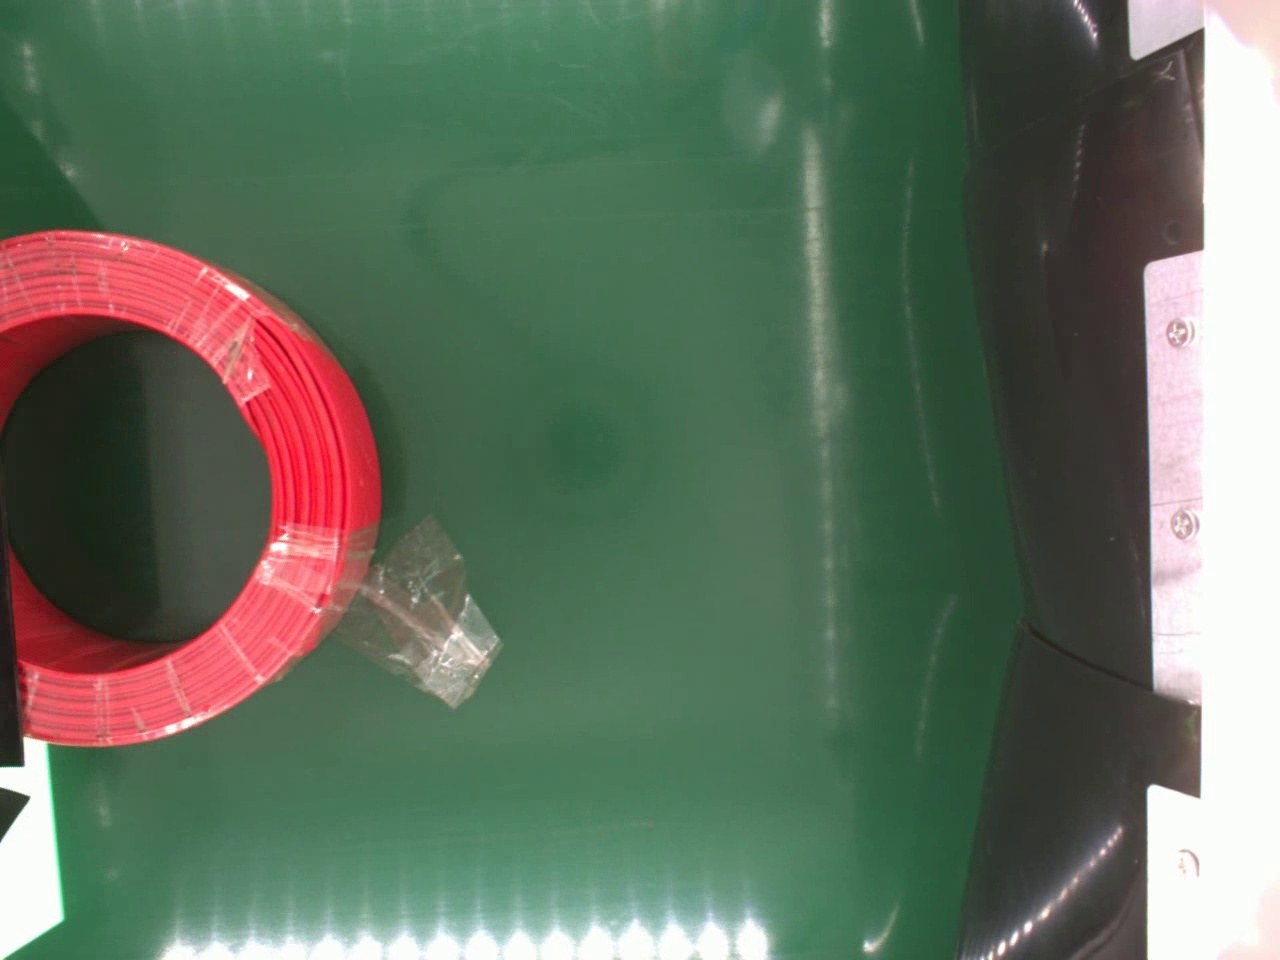red: (0, 229, 388, 752)
